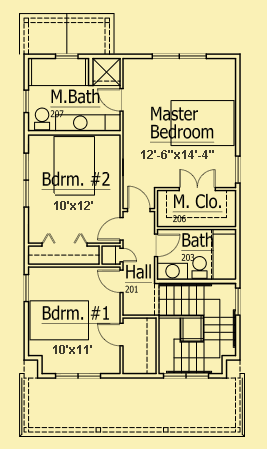door: (176, 166, 219, 191), (95, 318, 128, 349), (94, 266, 127, 296), (95, 213, 124, 244), (153, 230, 182, 260), (125, 181, 153, 212), (118, 245, 141, 265)
large sink: (30, 105, 54, 135), (190, 254, 210, 281)
small sink: (56, 114, 107, 132), (156, 262, 188, 280)
stairs: (154, 279, 241, 370)
windows: (146, 48, 207, 64), (55, 369, 108, 382), (160, 369, 213, 382), (21, 151, 32, 210), (231, 150, 245, 187), (231, 283, 242, 317), (21, 269, 31, 302), (52, 50, 77, 63), (22, 86, 30, 117)
